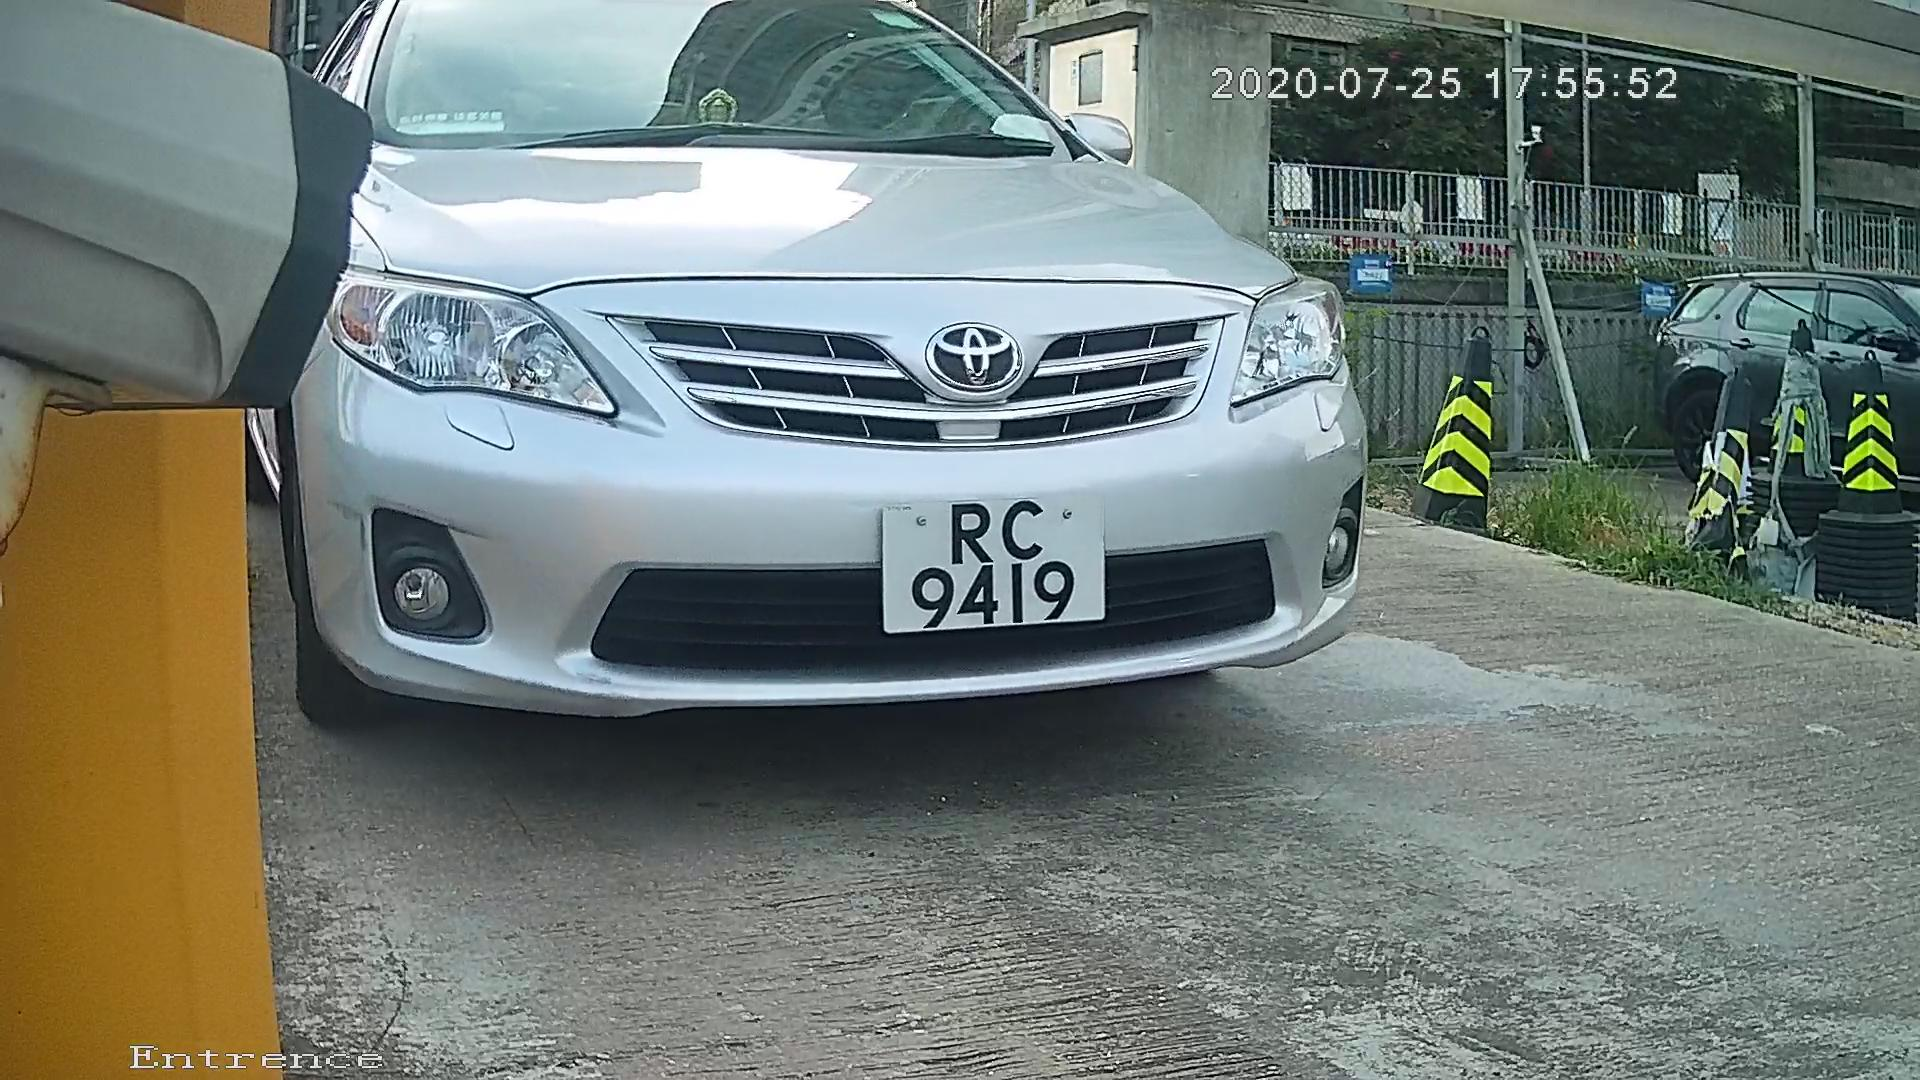License Plate: (849, 473, 1132, 656)
